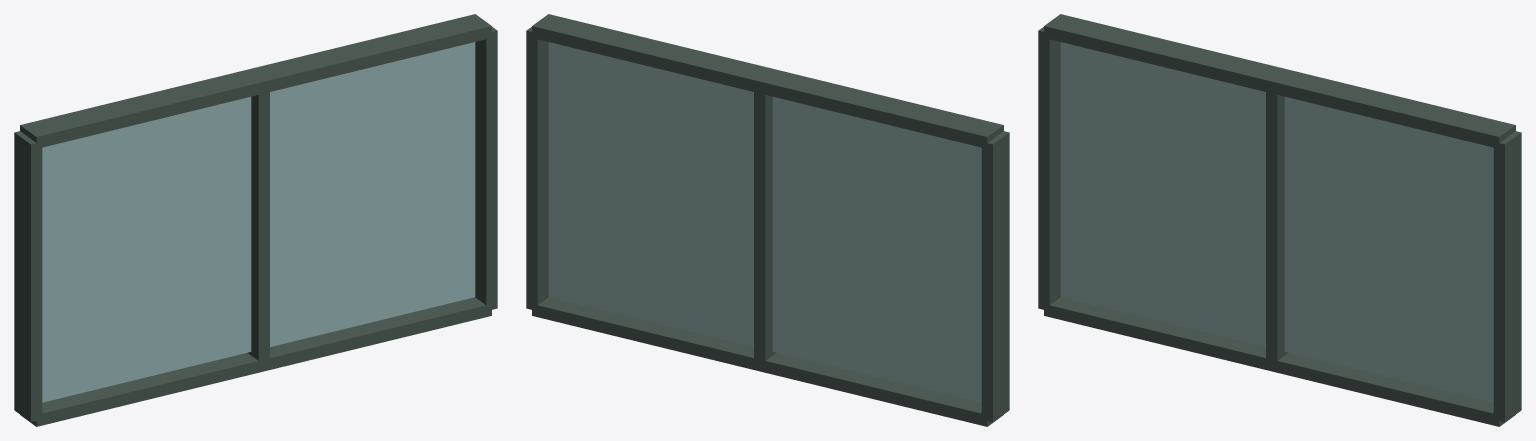
File: window.glb
The picture shows the model from 3 angles, left to right: view 1: azimuth 30°, elevation 25°; view 2: azimuth 150°, elevation 25°; view 3: azimuth 330°, elevation 25°; orthographic projection.
Parts seen in each view (by area): view 1: window; view 2: window; view 3: window.
Boxes of the visible parts, x1=… form: window: x1=14, y1=14, x2=497, y2=426; window: x1=526, y1=14, x2=1009, y2=426; window: x1=1038, y1=14, x2=1521, y2=426.
Size of the model in its own units: 2.46 by 1.46 by 0.15.
